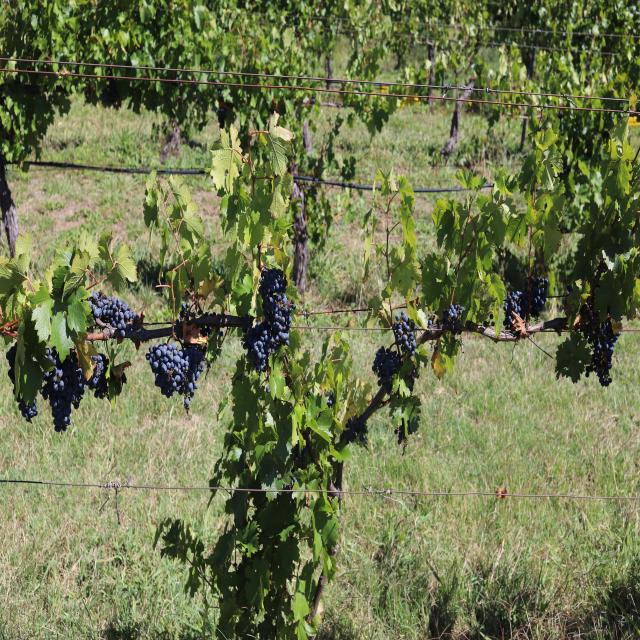grapes: (242, 268, 296, 372), (146, 343, 204, 411), (41, 347, 85, 431), (583, 308, 619, 386), (88, 291, 140, 338), (503, 277, 548, 329), (372, 346, 401, 394), (87, 353, 109, 399)
